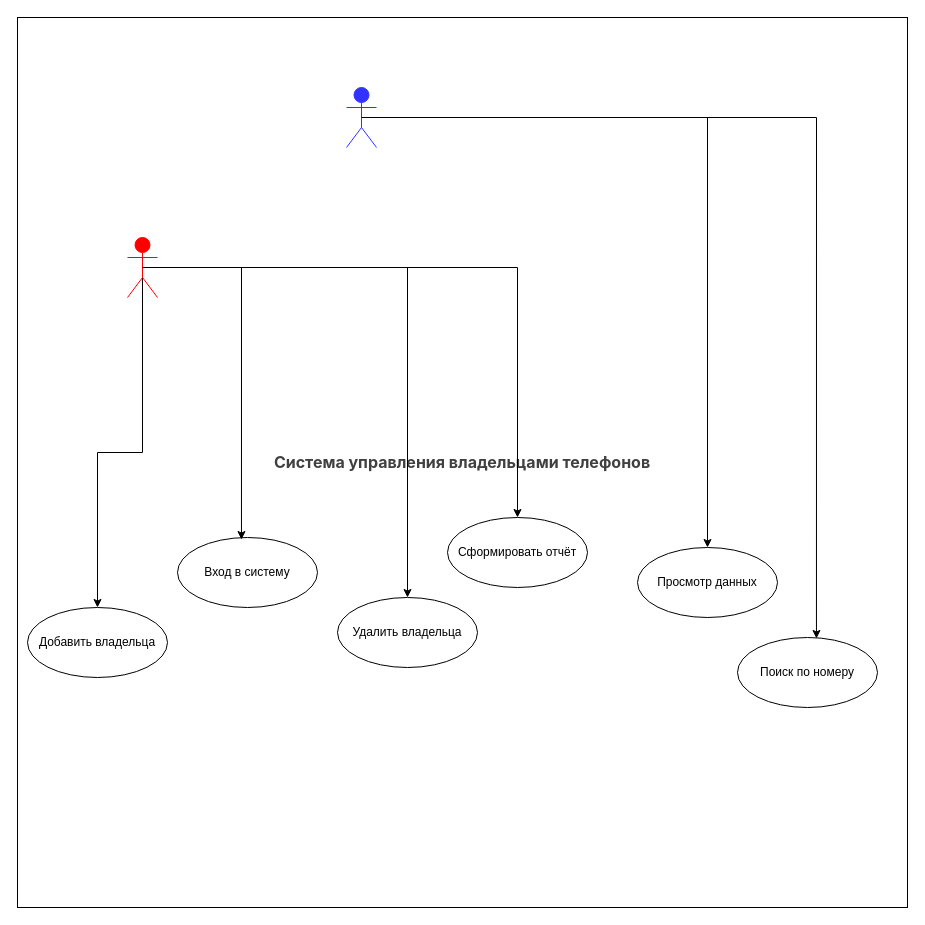
Some shapes in this 925 by 925 pixel diagram are drawn without their labels. The shapes that lost their labels are listed below. From the top down, each one's centre as x and y in pixels, then its label:
At (x=361, y=117): "Пользователь".
At (x=142, y=267): "Администратор".
